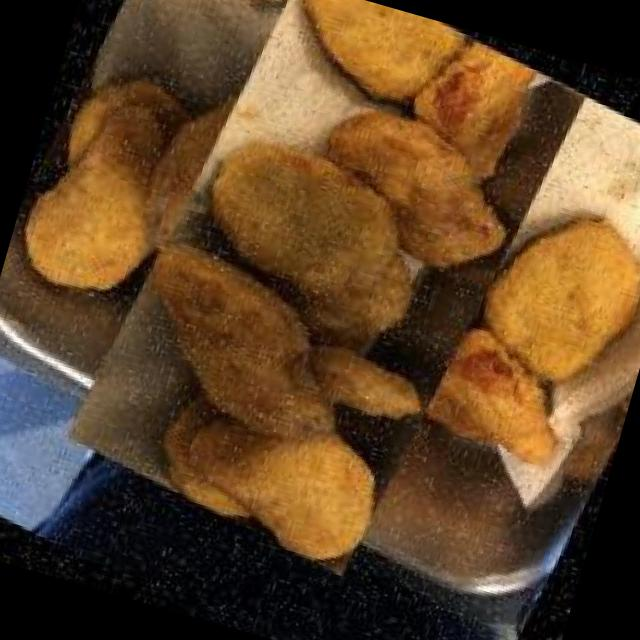chicken_nuggets: (13, 0, 640, 570)
